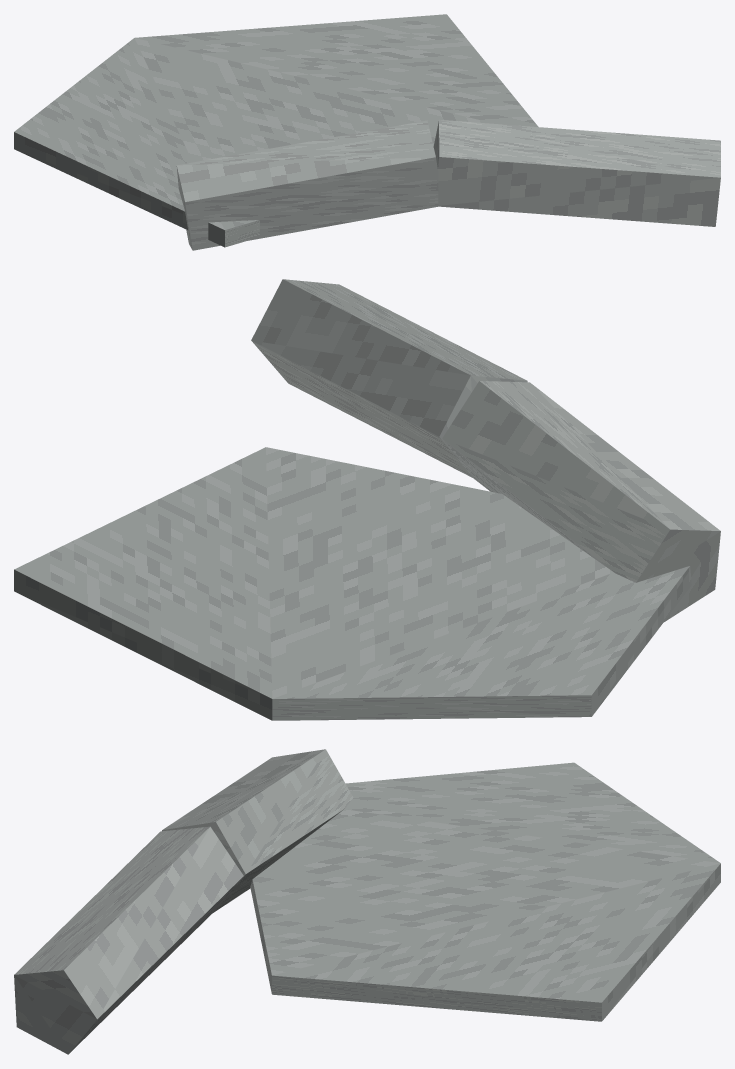
The model's file is patchwork_scarf_headwrap.glb.
3 views of the same model, one above another, from view 1: azimuth 30°, elevation 25°; view 2: azimuth 150°, elevation 25°; view 3: azimuth 270°, elevation 25° (orthographic). The views are drawn at different scales.
Visible parts, largest first — view 1: block_triangular wrap, block_tied ends 1, block_tied ends 0; view 2: block_triangular wrap, block_tied ends 0, block_tied ends 1; view 3: block_triangular wrap, block_tied ends 1, block_tied ends 0.
Boxes of the visible parts, x1,y1,x2,y2 form: block_triangular wrap: [14, 14, 538, 247]; block_tied ends 1: [433, 119, 720, 226]; block_tied ends 0: [176, 120, 438, 250]; block_triangular wrap: [14, 447, 691, 720]; block_tied ends 0: [442, 381, 720, 621]; block_tied ends 1: [251, 279, 527, 477]; block_triangular wrap: [250, 762, 720, 1021]; block_tied ends 1: [14, 826, 243, 1054]; block_tied ends 0: [162, 749, 353, 913].
Bounding box in the file's own units: 0.1837 × 0.0404 × 0.2095.
1 material, 1 textured.
